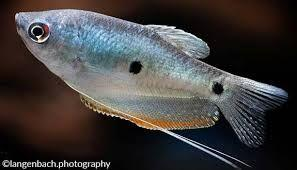Gourami: (15, 8, 290, 170)
